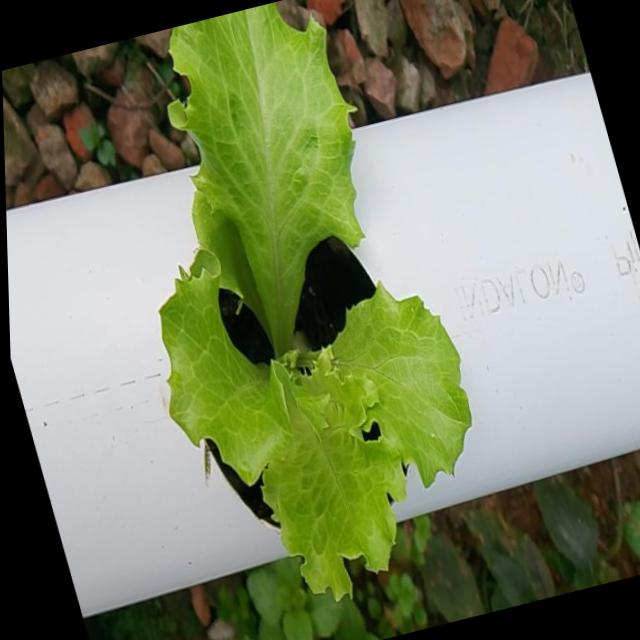Baby: (163, 2, 474, 610)
